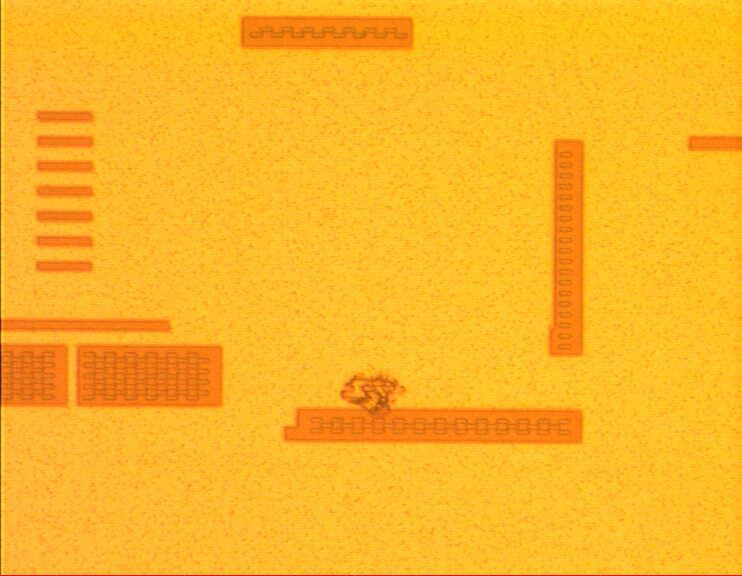PO CONTAMINATION: (336, 351, 416, 431)
